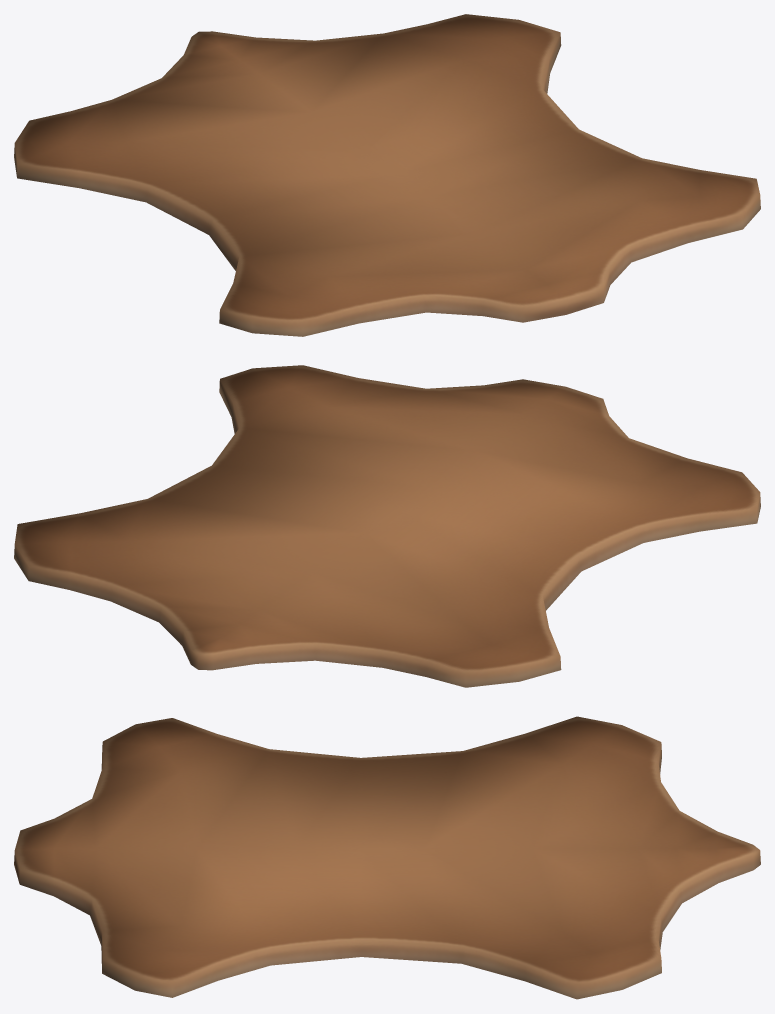
The model's file is skin_rug1.fbx.
The picture shows the model from 3 angles, top to bottom: view 1: azimuth 30°, elevation 25°; view 2: azimuth 150°, elevation 25°; view 3: azimuth 270°, elevation 25°; orthographic projection.
Parts seen in each view (by area): view 1: hide_low2; view 2: hide_low2; view 3: hide_low2.
Boxes of the visible parts, x1,y1,x2,y2 form: hide_low2: (14,14,760,336); hide_low2: (14,365,760,687); hide_low2: (14,716,760,999).
Size of the model in its own units: 894 by 24.67 by 1046.
Materials: 1 (1 with a texture image).
